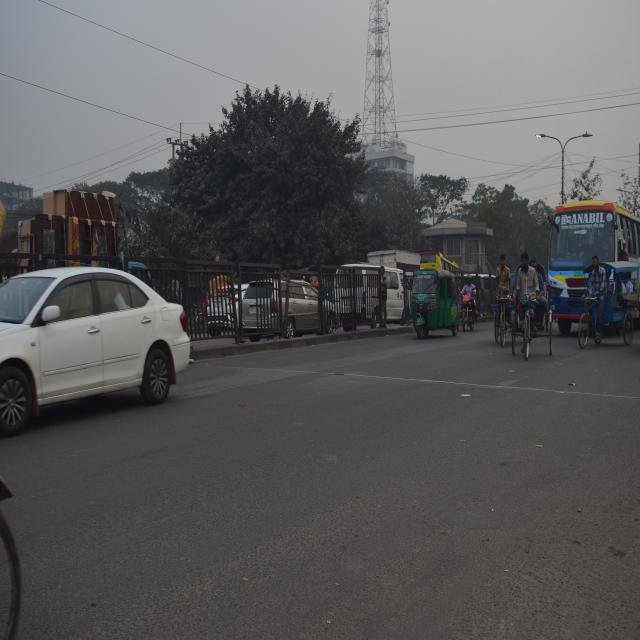bus: (547, 202, 638, 318)
car: (0, 271, 184, 434), (239, 276, 330, 331)
microbus: (334, 260, 408, 320)
motorbike: (458, 288, 475, 342)
